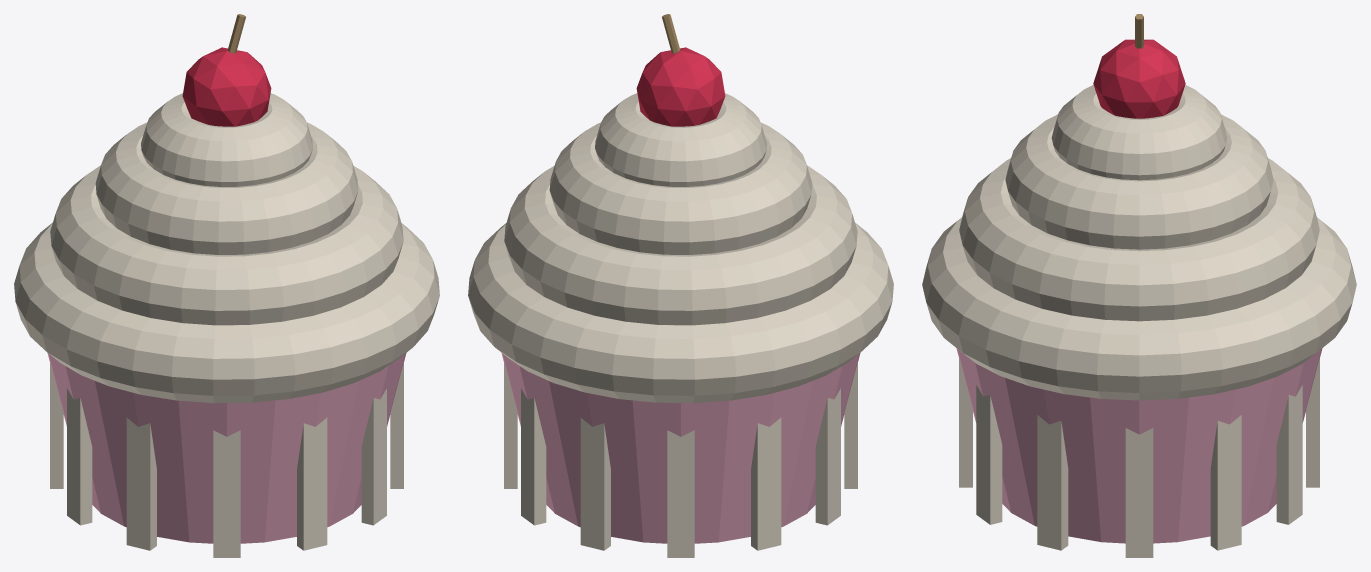
File: HOB_Cupcake_Cream.fbx
3 renders of one model, left to right at view 1: azimuth 30°, elevation 25°; view 2: azimuth 150°, elevation 25°; view 3: azimuth 270°, elevation 25°, orthographic.
Parts seen in each view (by area): view 1: HOB_Cupcake_Cream; view 2: HOB_Cupcake_Cream; view 3: HOB_Cupcake_Cream.
Boxes of the visible parts, left/top/right/bottom form: HOB_Cupcake_Cream: left=14, top=14, right=439, bottom=557; HOB_Cupcake_Cream: left=468, top=14, right=893, bottom=557; HOB_Cupcake_Cream: left=922, top=14, right=1356, bottom=557.
Bounding box in the file's own units: 169 × 203 × 169.
